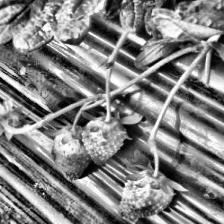Powdery Mildew Fruit: (117, 168, 174, 218), (50, 125, 92, 182), (83, 116, 127, 166)
